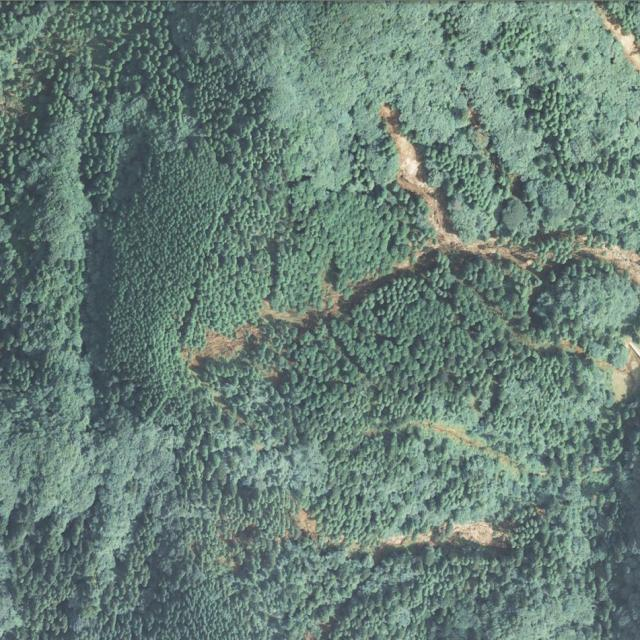landslide: (380, 104, 540, 268), (375, 521, 509, 551), (185, 324, 260, 368), (577, 238, 640, 284), (260, 309, 310, 326)
